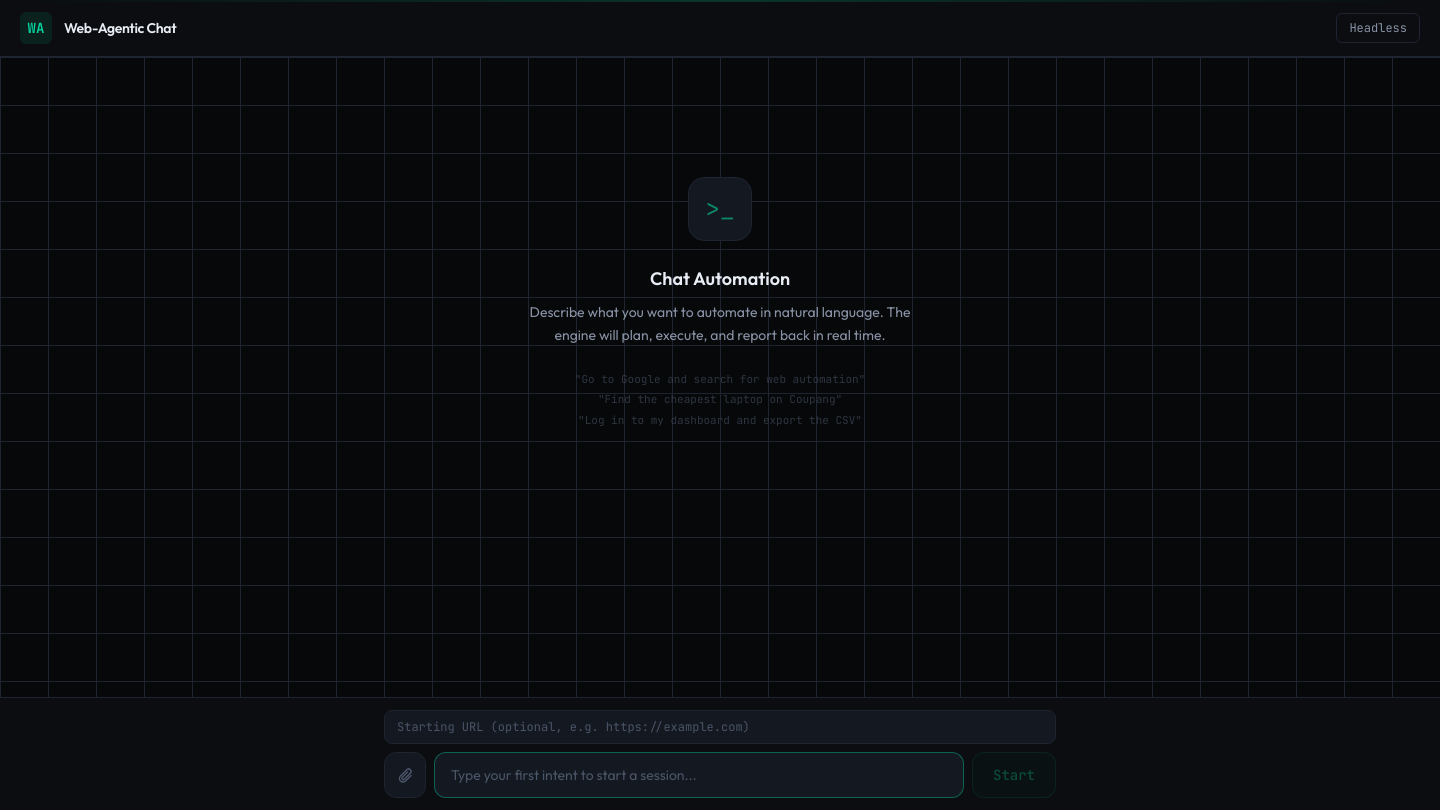
Test: session lifecycle › closes session and resets state
# Create session
In the field with placeholder "Type your first intent to start a session...": (699, 775) [434,752,964,798], type "start"
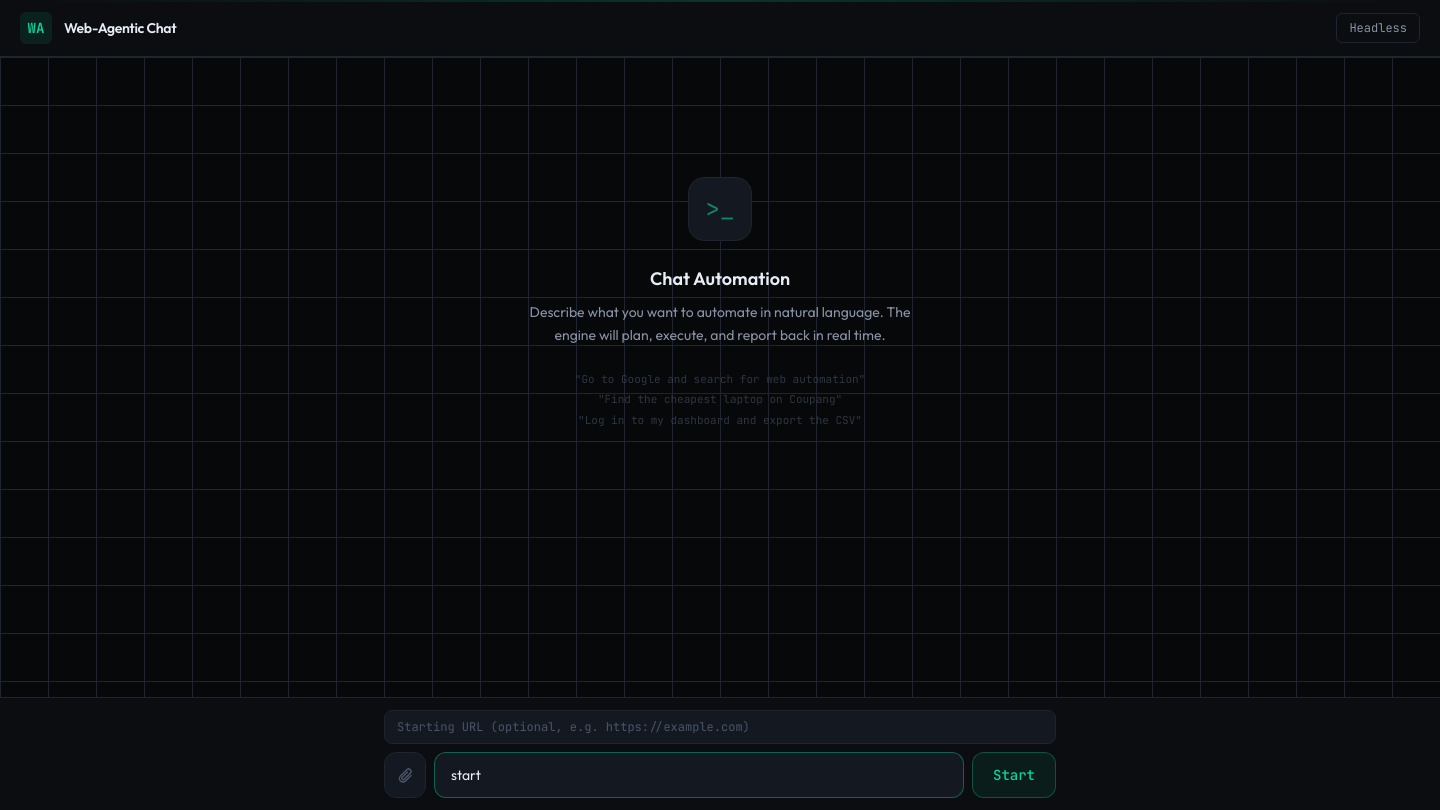
Click the button "Start": (1014, 775) [972,752,1056,798]
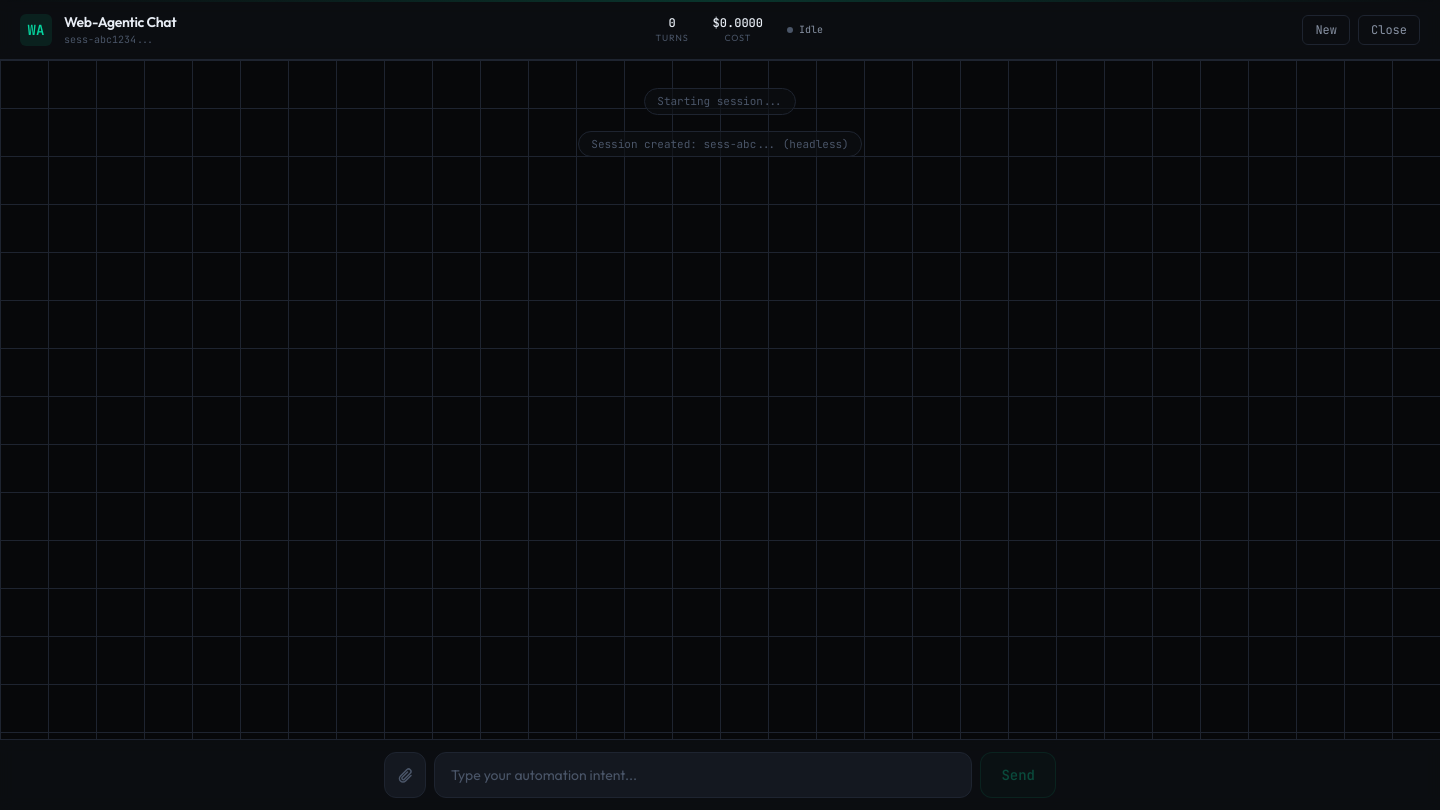
Now the text "Session created: sess-abc... (headless)" is shown, box [578,130,862,157]
# Close session
Click the button "Close": (1389, 30) [1358,14,1420,44]
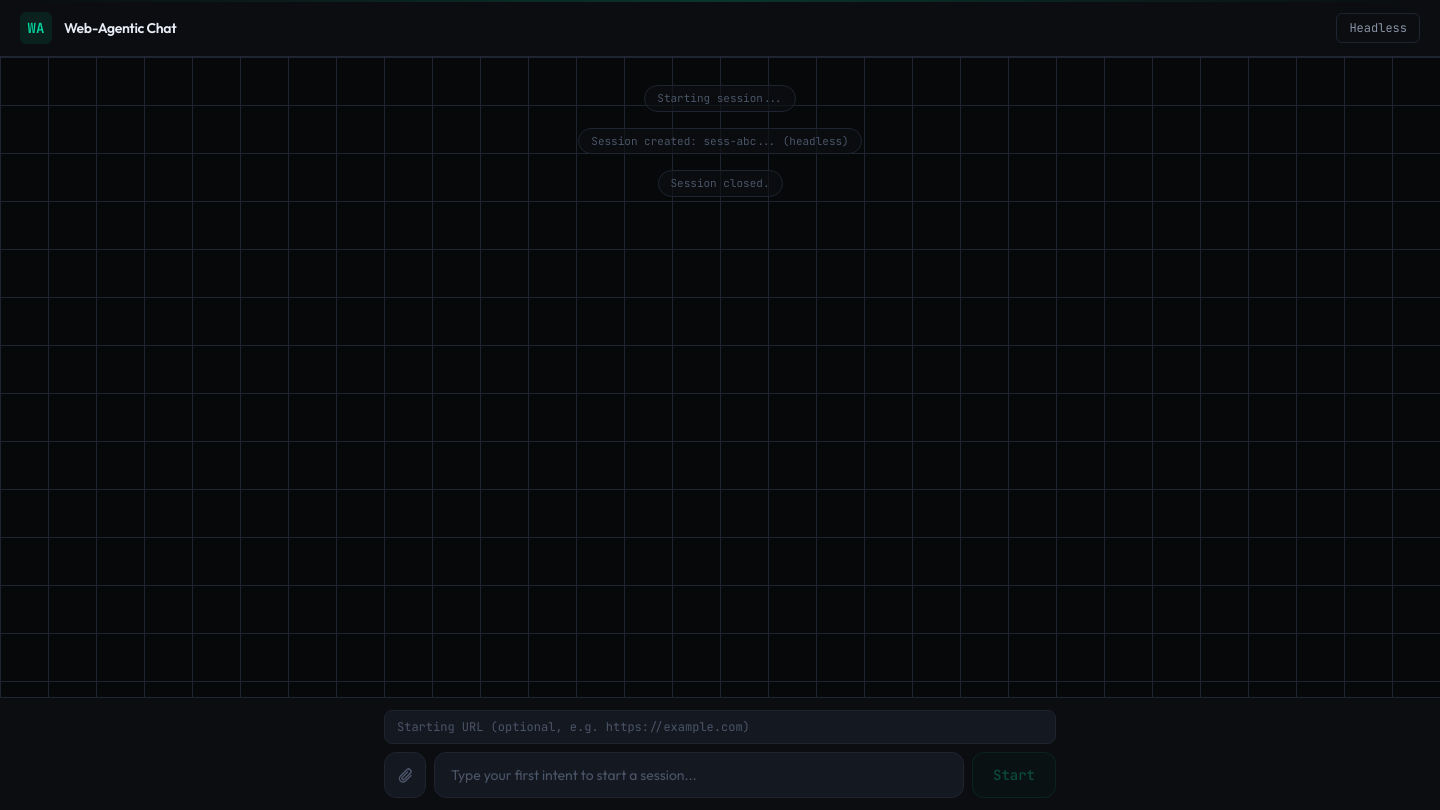
Now the text "Session closed." is shown, box [658,170,782,196]
Now the button "Start" is shown, box [972,752,1056,798]
